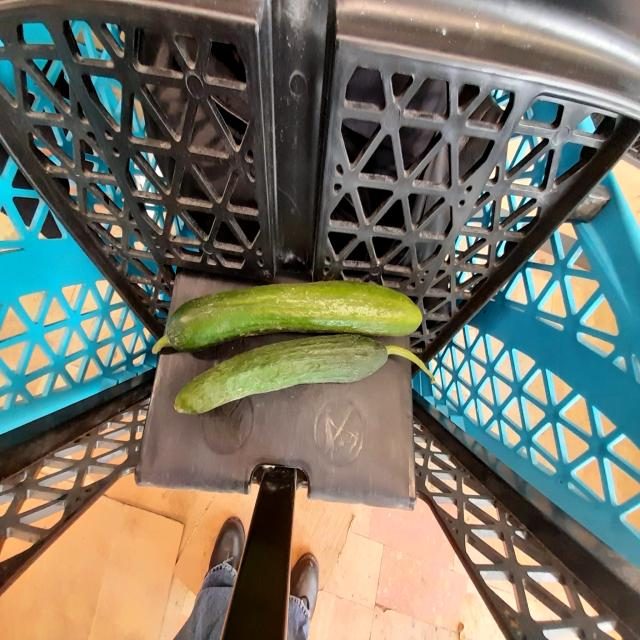cucumber: (170, 330, 430, 424), (146, 274, 438, 356)
